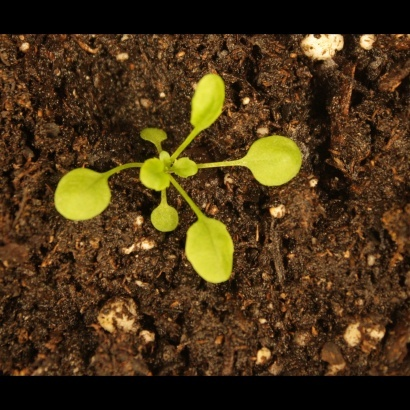leaf: (184, 215, 241, 288), (50, 166, 115, 224), (241, 135, 307, 189), (189, 69, 230, 133), (136, 152, 171, 191), (150, 201, 183, 235), (139, 121, 170, 147), (169, 153, 200, 179)
